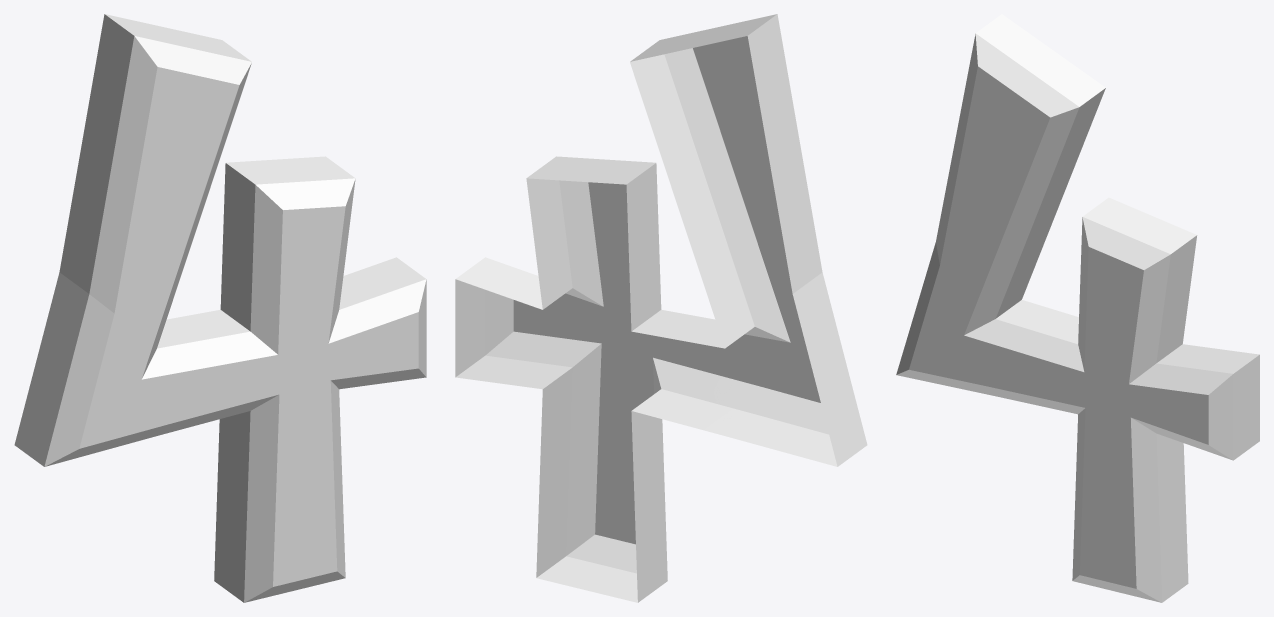
File: Number_04.fbx
3 renders of one model, left to right at view 1: azimuth 30°, elevation 25°; view 2: azimuth 150°, elevation 25°; view 3: azimuth 330°, elevation 25°, orthographic. The views are drawn at different scales.
Parts seen in each view (by area): view 1: Number04_Model; view 2: Number04_Model; view 3: Number04_Model.
Part boxes in pixels (box(x1,y1,x2,y2)): Number04_Model: box(14, 14, 426, 602); Number04_Model: box(455, 14, 867, 602); Number04_Model: box(896, 14, 1259, 602).
Size of the model in its own units: 87.7 by 130 by 15.96.
